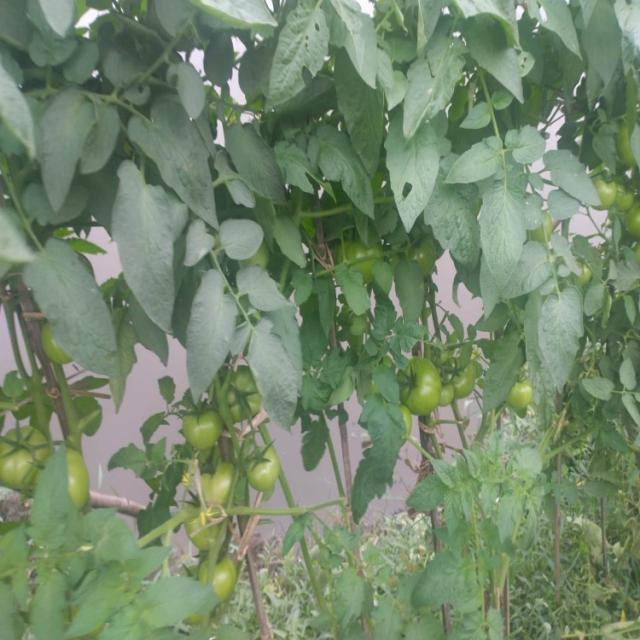tomato: (1, 428, 48, 488), (396, 361, 442, 417), (225, 363, 265, 419), (243, 442, 286, 490), (198, 555, 245, 598), (452, 351, 488, 406), (185, 510, 228, 551), (506, 371, 545, 416), (60, 449, 90, 504), (187, 410, 222, 454), (202, 462, 236, 507), (345, 242, 383, 280), (44, 326, 76, 369), (616, 187, 640, 235), (247, 240, 275, 275), (593, 171, 616, 210), (412, 244, 438, 271), (540, 216, 562, 240), (580, 261, 597, 288)
